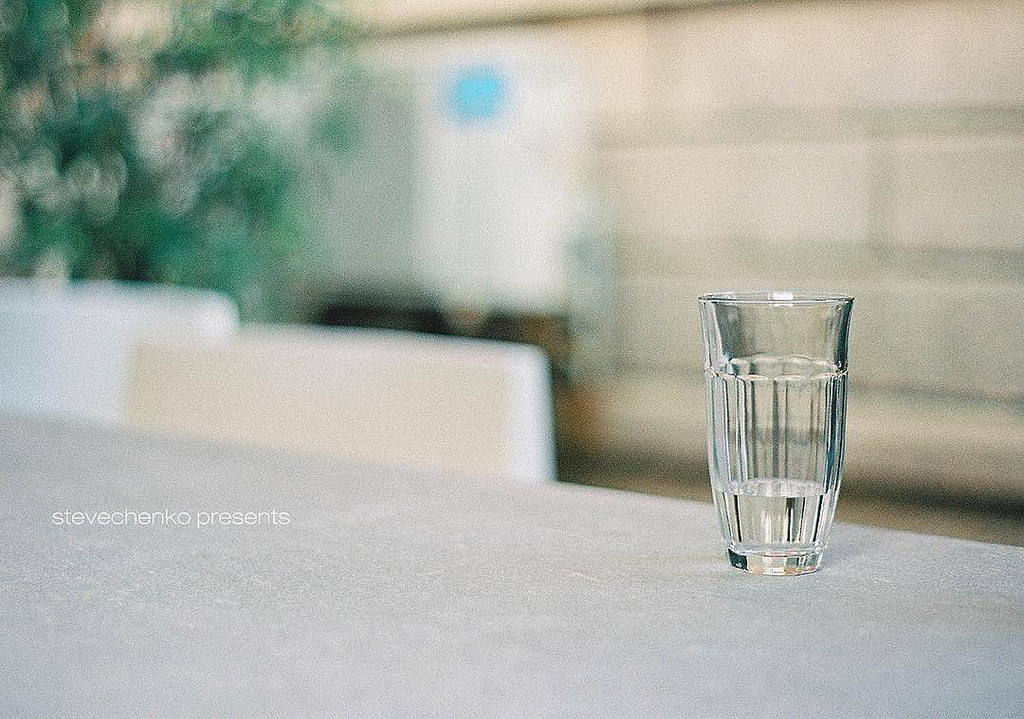glass of water: (691, 289, 832, 574)
